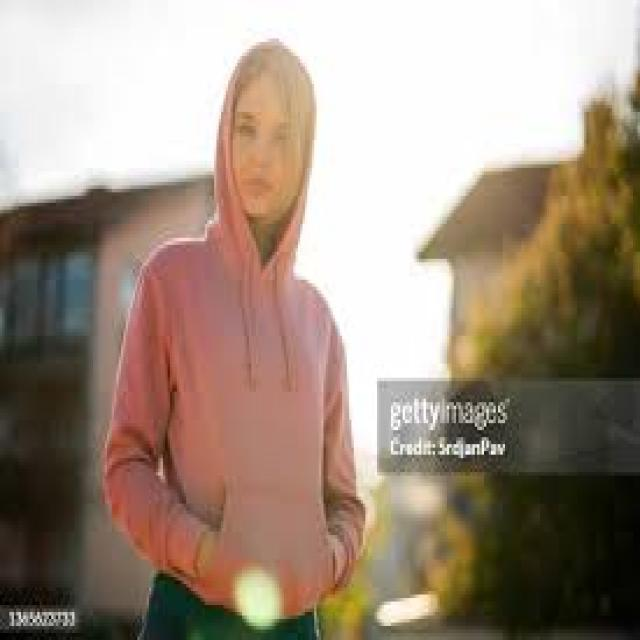4_capucha: (202, 33, 317, 291)
